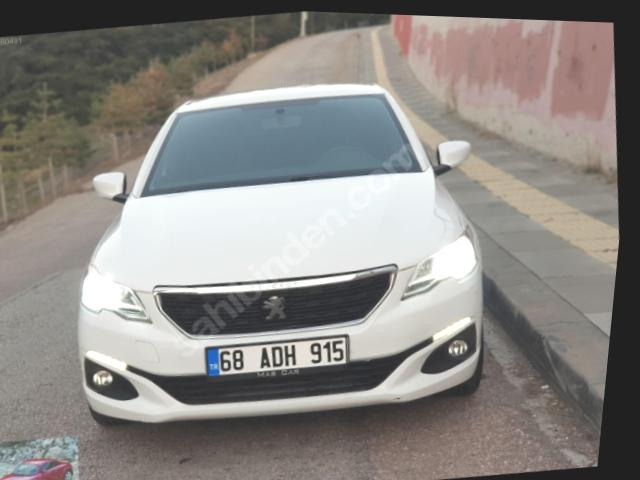plaka: (206, 337, 347, 376)
